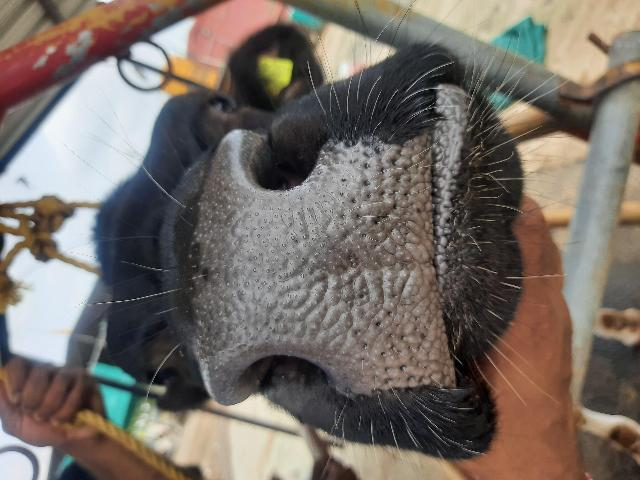Muzzle: (203, 194, 439, 354)
